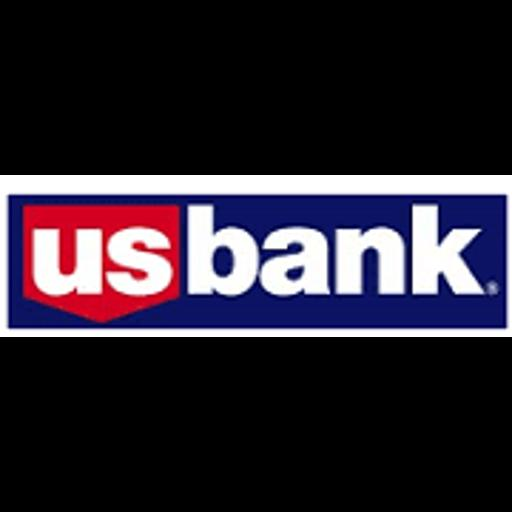U-S- Bank: (0, 175, 512, 337)
